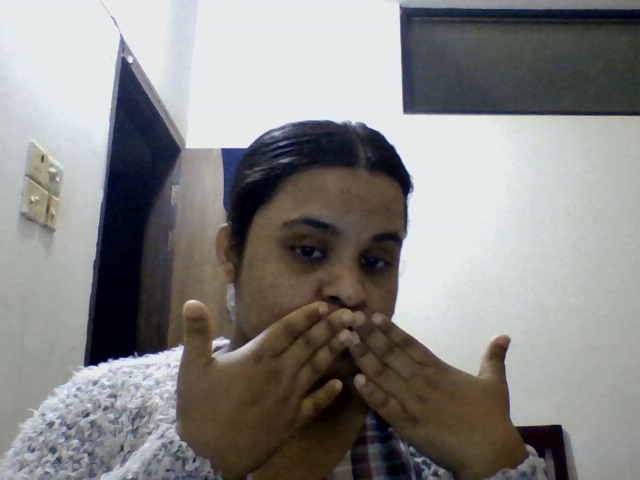Thank You: (103, 93, 582, 457)
